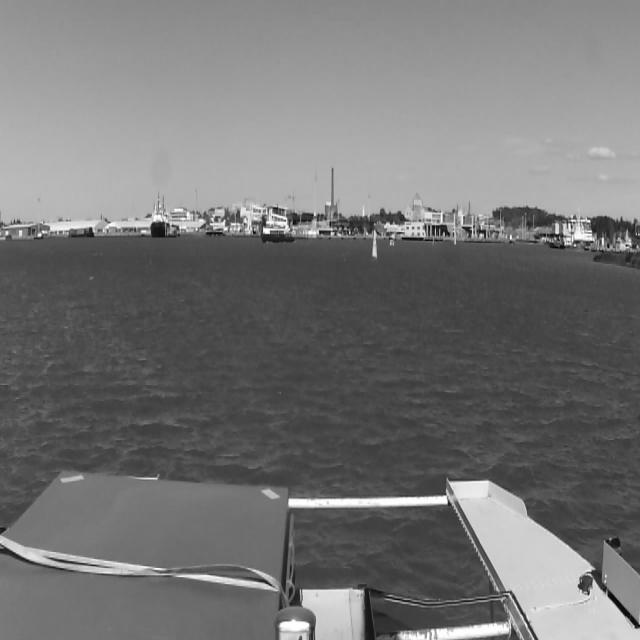buoy: (370, 228, 378, 260), (452, 230, 458, 244), (432, 236, 435, 246)
ship: (550, 210, 594, 250), (168, 204, 205, 230), (260, 223, 296, 245), (150, 191, 166, 240), (389, 238, 395, 248)
